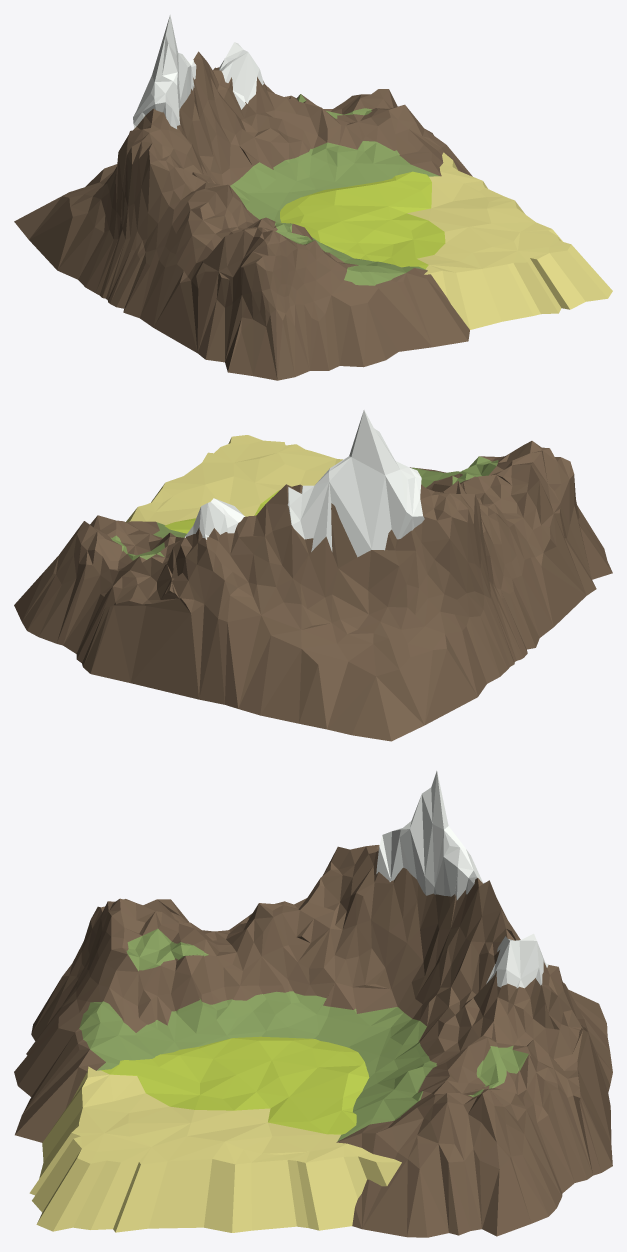
Rendered from Land_1.fbx.
The picture shows the model from 3 angles, top to bottom: view 1: azimuth 30°, elevation 25°; view 2: azimuth 150°, elevation 25°; view 3: azimuth 270°, elevation 25°; orthographic projection. The views are drawn at different scales.
Visible parts, largest first — view 1: Land_1; view 2: Land_1; view 3: Land_1.
Boxes of the visible parts, left/top/right/bottom form: Land_1: left=14, top=14, right=612, bottom=380; Land_1: left=14, top=410, right=612, bottom=741; Land_1: left=14, top=771, right=612, bottom=1237.
Size of the model in its own units: 2834 by 1555 by 2930.
1 material, 1 textured.
